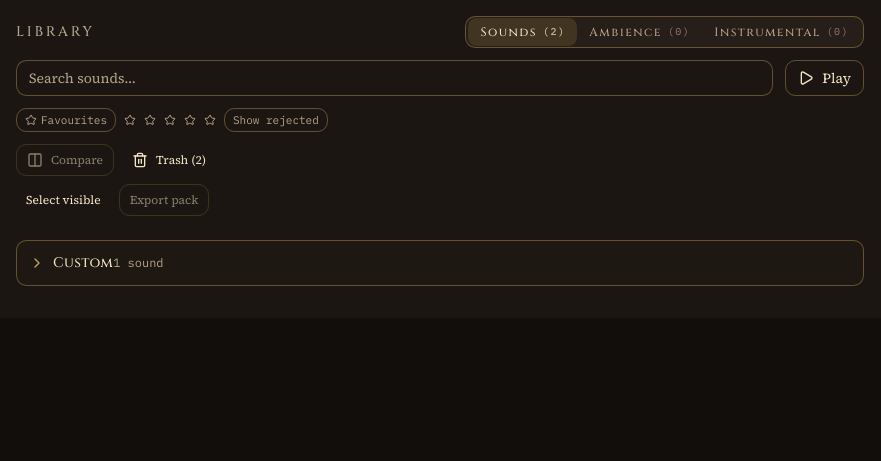
Scenario: library triage › hides a rejected clip by default
Click the button "Custom 1 sound" at (96, 263), box [17,241,176,285]
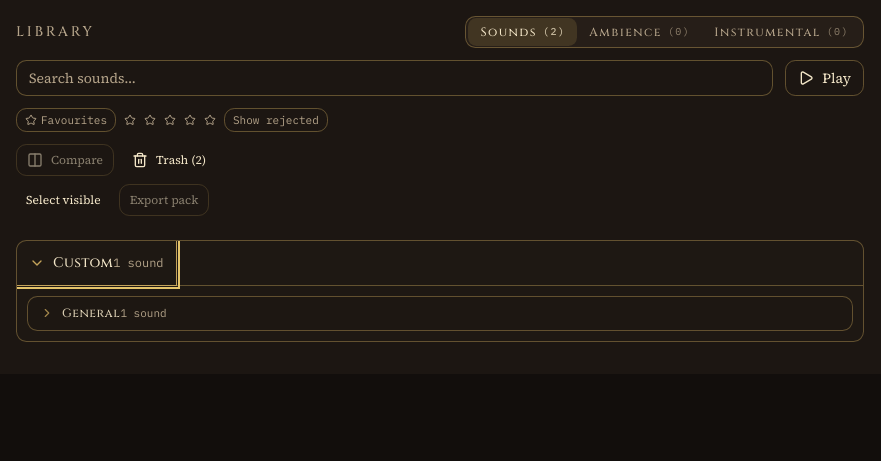
Click the button "General 1 sound" at (103, 313), box [28,297,179,330]
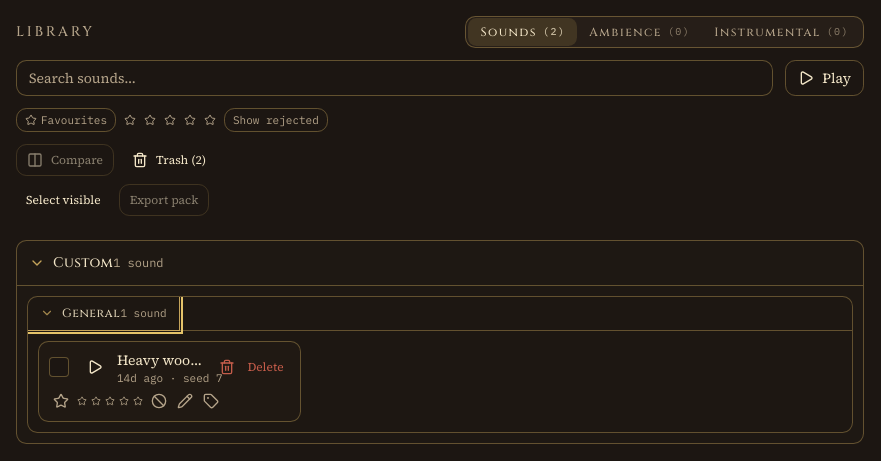
Result: the text "Heavy wooden door" is shown at [117,350,204,370]
